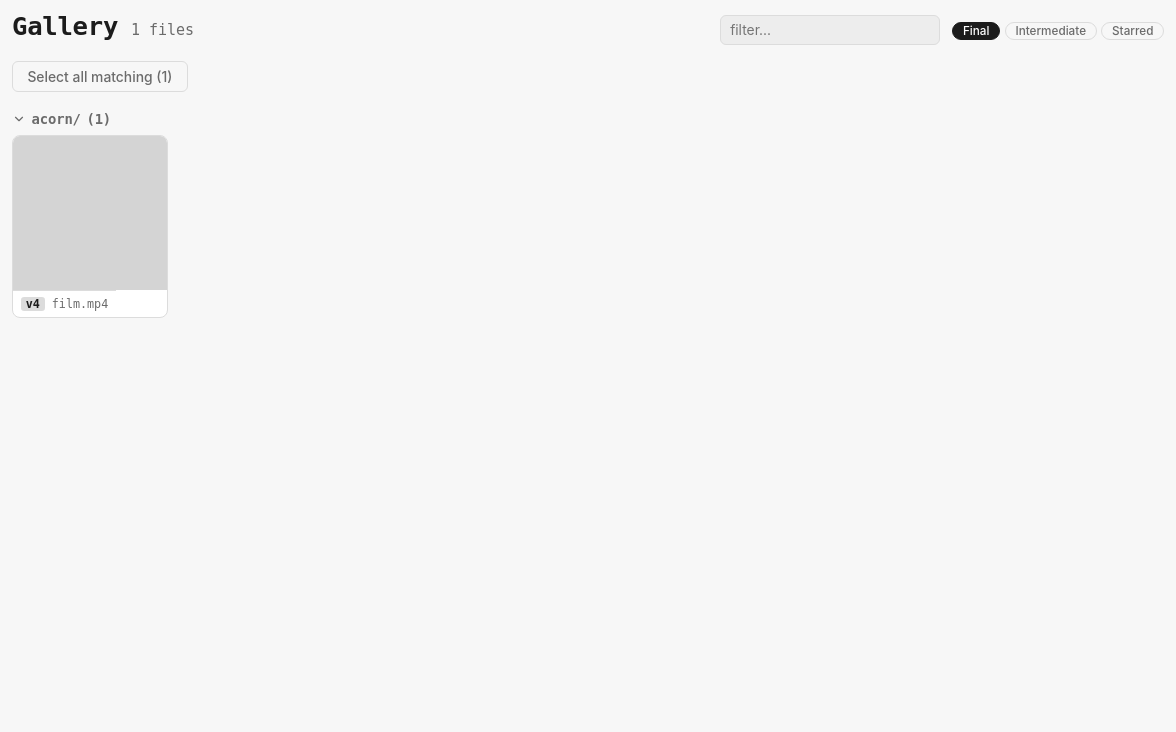
names the run and its version in the details of the selected file
Expected: the text "film.mp4" is shown, [52,297,108,311]
Click the button "v4 film.mp4": (90, 227) [12,135,168,319]
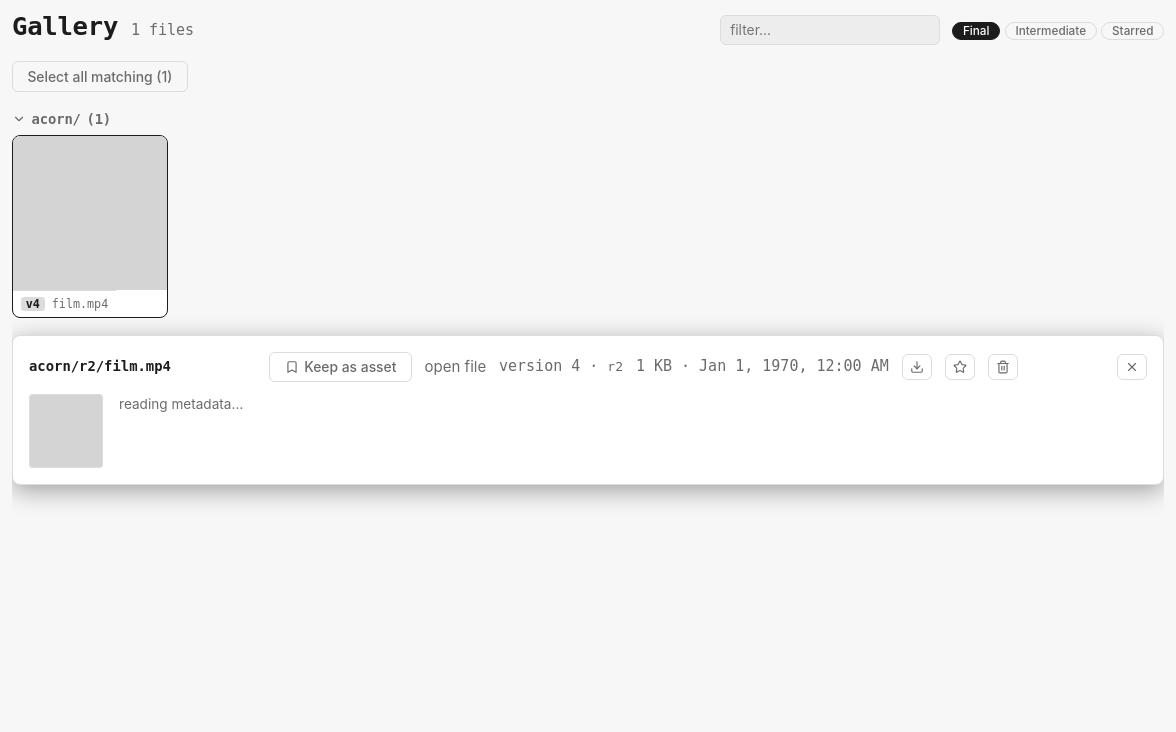
Expected: the element with class "detail" shows "version 4", [499,358,607,376]
Expected: the text "r2" is shown, [607,360,623,374]
